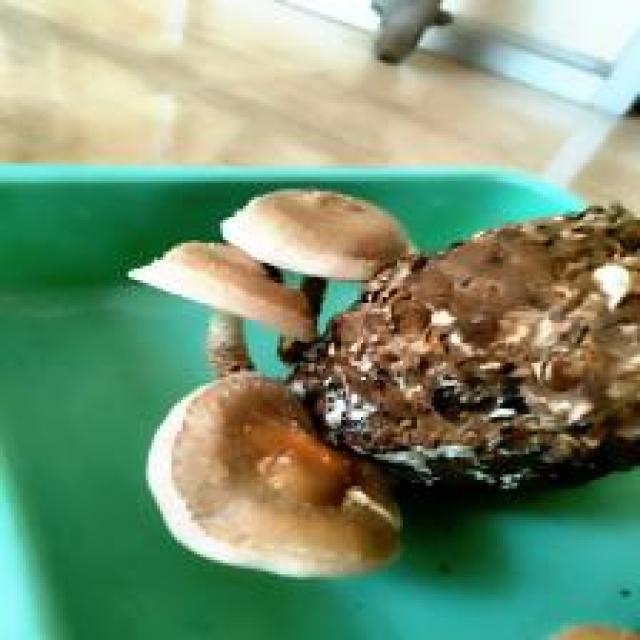chanterelle: (126, 183, 637, 577)
